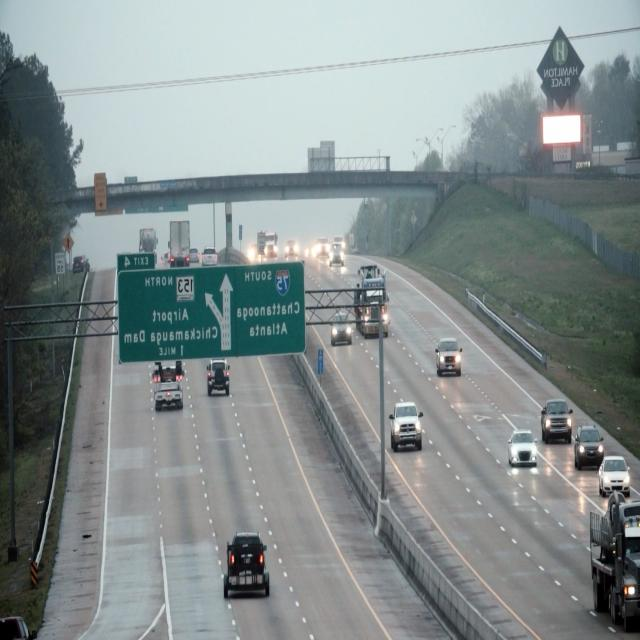Car: (221, 526, 273, 600), (355, 262, 387, 338), (389, 398, 425, 452), (151, 364, 186, 415), (541, 398, 573, 444), (574, 423, 604, 470), (597, 456, 629, 496), (203, 359, 234, 399), (507, 431, 536, 469), (436, 336, 461, 380), (330, 302, 353, 348)
